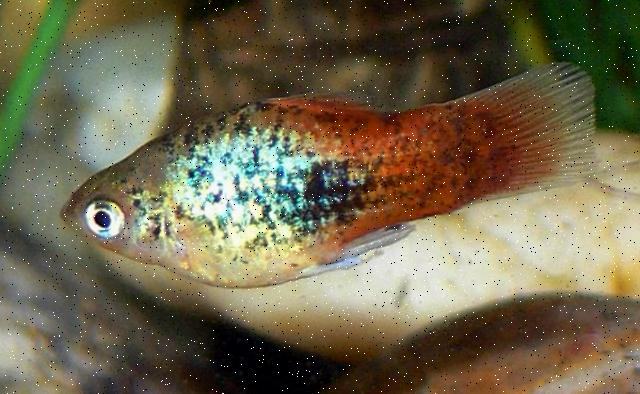Mulut: (459, 43, 623, 209), (50, 160, 98, 252)
Sirip Anal: (341, 210, 425, 258)
Sirip Dada: (166, 186, 258, 302)
Sirip Punggung: (274, 60, 401, 133)
